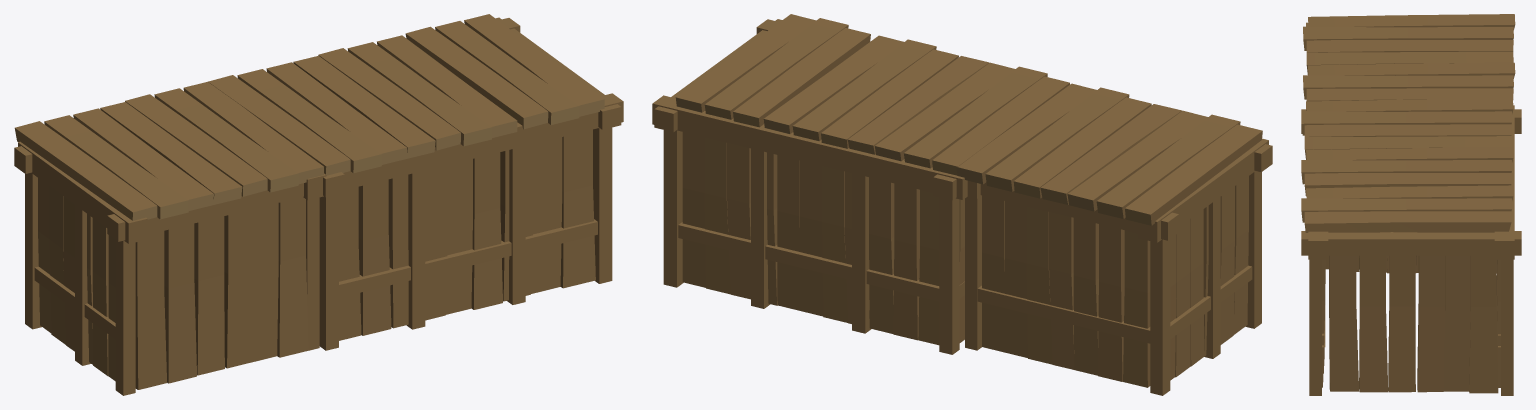
The model's file is HUTS2.fbx.
3 views of the same model, side by side, from view 1: azimuth 30°, elevation 25°; view 2: azimuth 150°, elevation 25°; view 3: azimuth 270°, elevation 25° (orthographic). The views are drawn at different scales.
Visible parts, largest first — view 1: Houses_FirstAge_3_Level3; view 2: Houses_FirstAge_3_Level3; view 3: Houses_FirstAge_3_Level3.
Part boxes in pixels (x1,y1,x2,y2): Houses_FirstAge_3_Level3: (14,14,623,395); Houses_FirstAge_3_Level3: (652,14,1272,395); Houses_FirstAge_3_Level3: (1301,14,1521,395).
Bounding box in the file's own units: 161 × 57.41 × 67.68.
